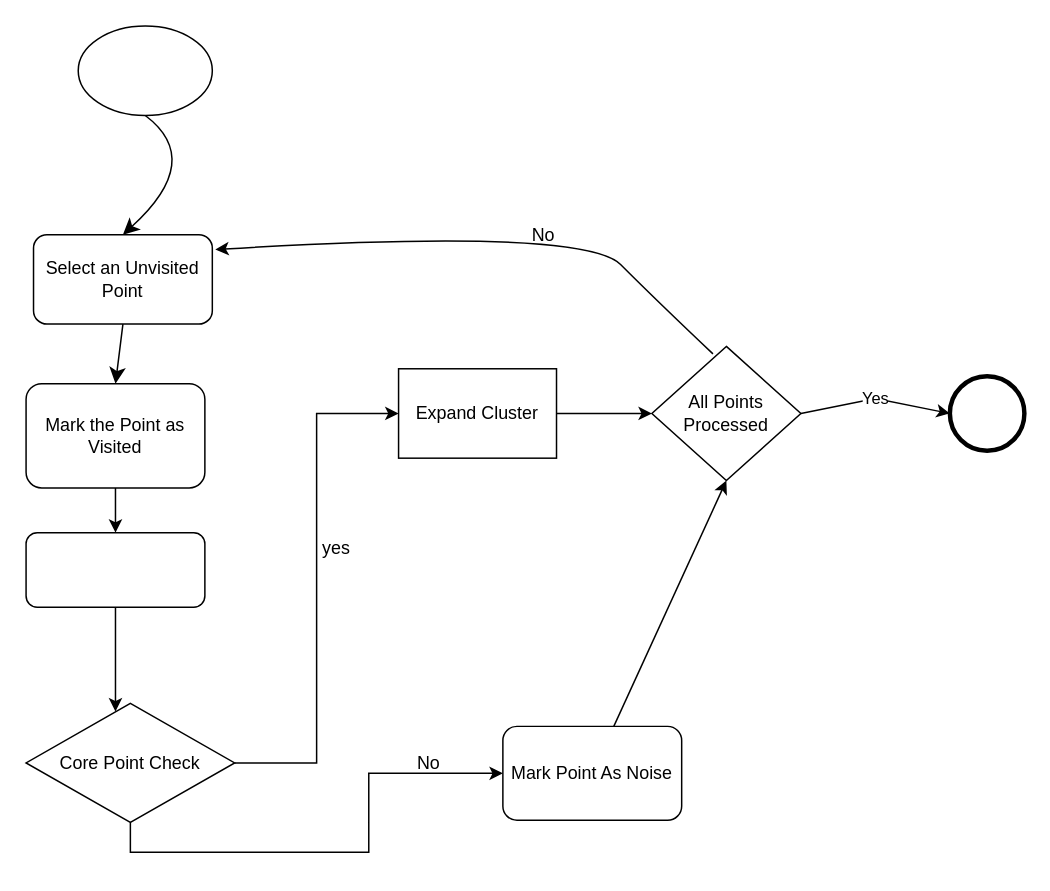
Image size: 1050x891. Some labels were removed from this diagram. Each missing label, with the centre of its shape:
"end" belongs at (x=986, y=413).
"Find Neighboring Points" belongs at (x=115, y=569).
"Start" belongs at (x=144, y=70).
